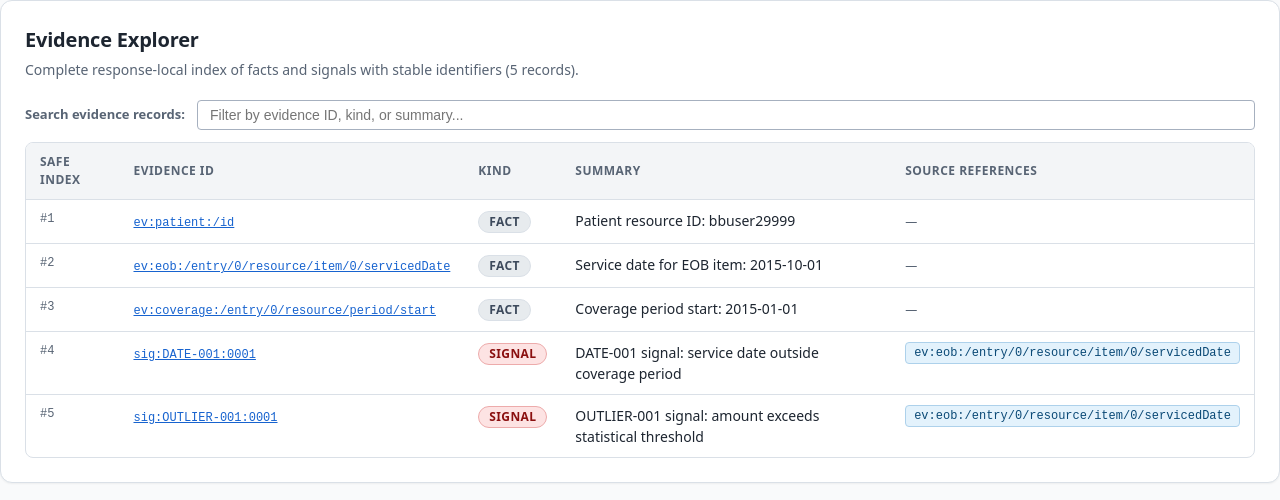
Test: EvidenceExplorerView › filters evidence records with search input
Type "patient" into the search field labelled "Search evidence records:" at (726, 115), box left=197, top=100, right=1255, bottom=130
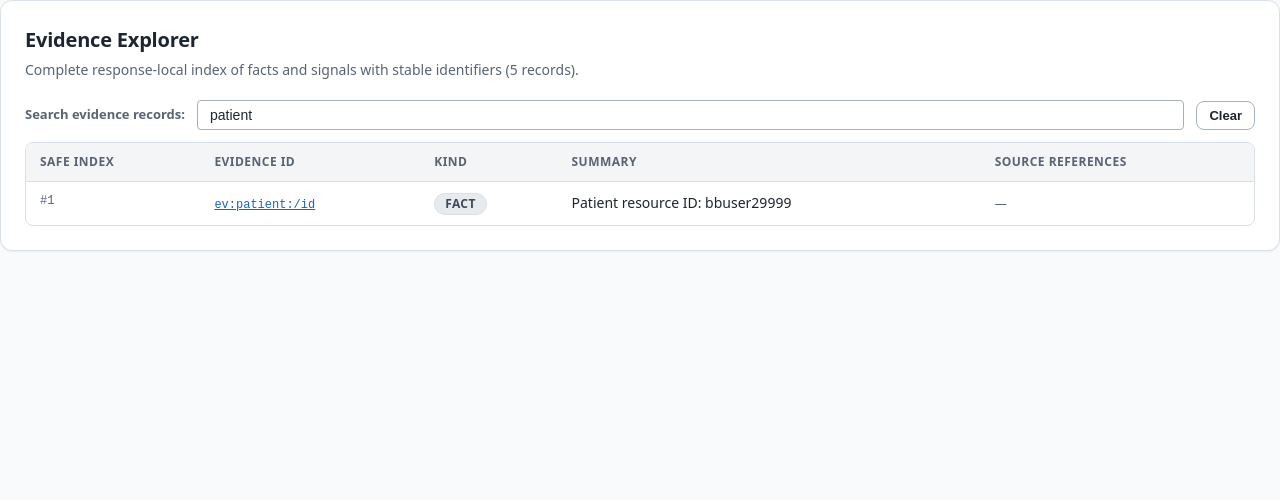
Expected: the button "ev:patient:/id" is shown, left=214, top=198, right=315, bottom=212
Expected: the button "sig:DATE-001:0001" is gone
